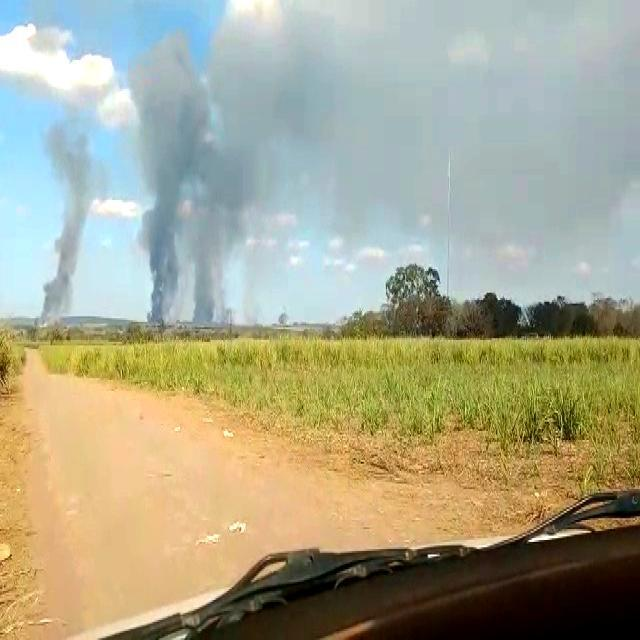Smoke: (237, 0, 640, 209), (139, 28, 257, 328), (42, 85, 112, 338)
